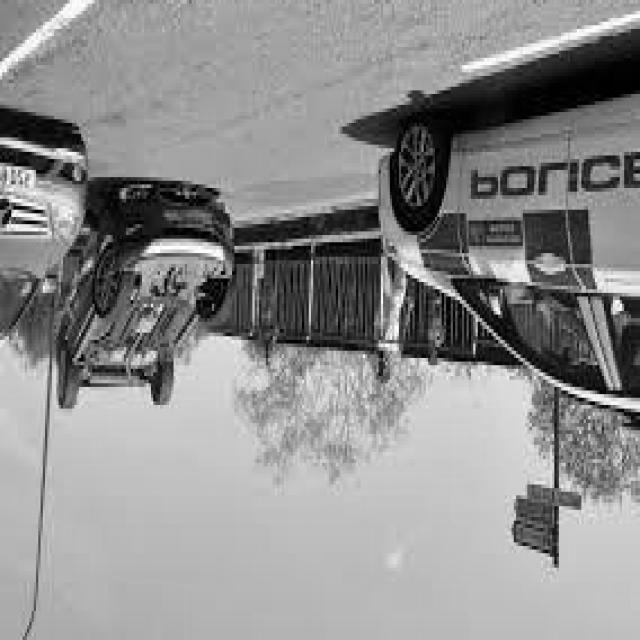severe: (51, 184, 238, 416)
